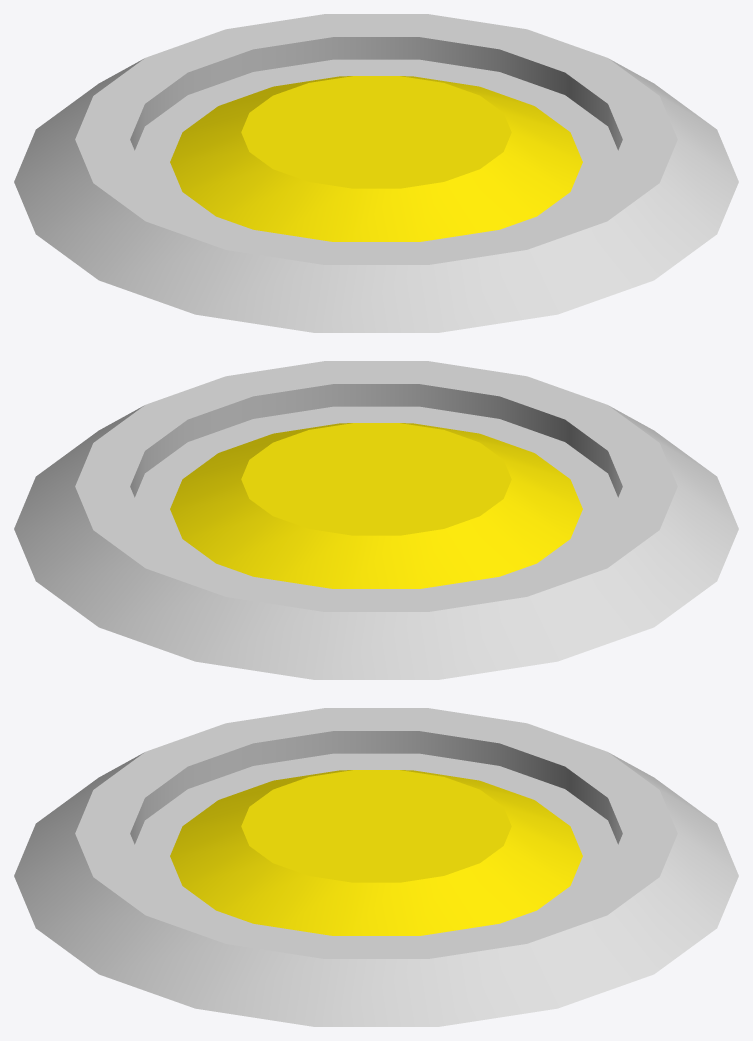
Rendered from Via.fbx.
The picture shows the model from 3 angles, top to bottom: view 1: azimuth 30°, elevation 25°; view 2: azimuth 150°, elevation 25°; view 3: azimuth 270°, elevation 25°; orthographic projection.
Parts seen in each view (by area): view 1: Capacitor_3_MotorrunGold; view 2: Capacitor_3_MotorrunGold; view 3: Capacitor_3_MotorrunGold.
Boxes of the visible parts, bbox=[...] form: Capacitor_3_MotorrunGold: bbox=[14, 14, 738, 332]; Capacitor_3_MotorrunGold: bbox=[14, 361, 738, 679]; Capacitor_3_MotorrunGold: bbox=[14, 708, 738, 1026].
Bounding box in the file's own units: 81.92 × 6.27 × 83.18.
